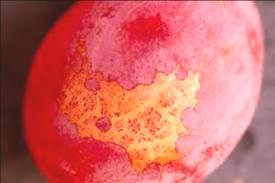Grape Rotten: (22, 0, 264, 183)
